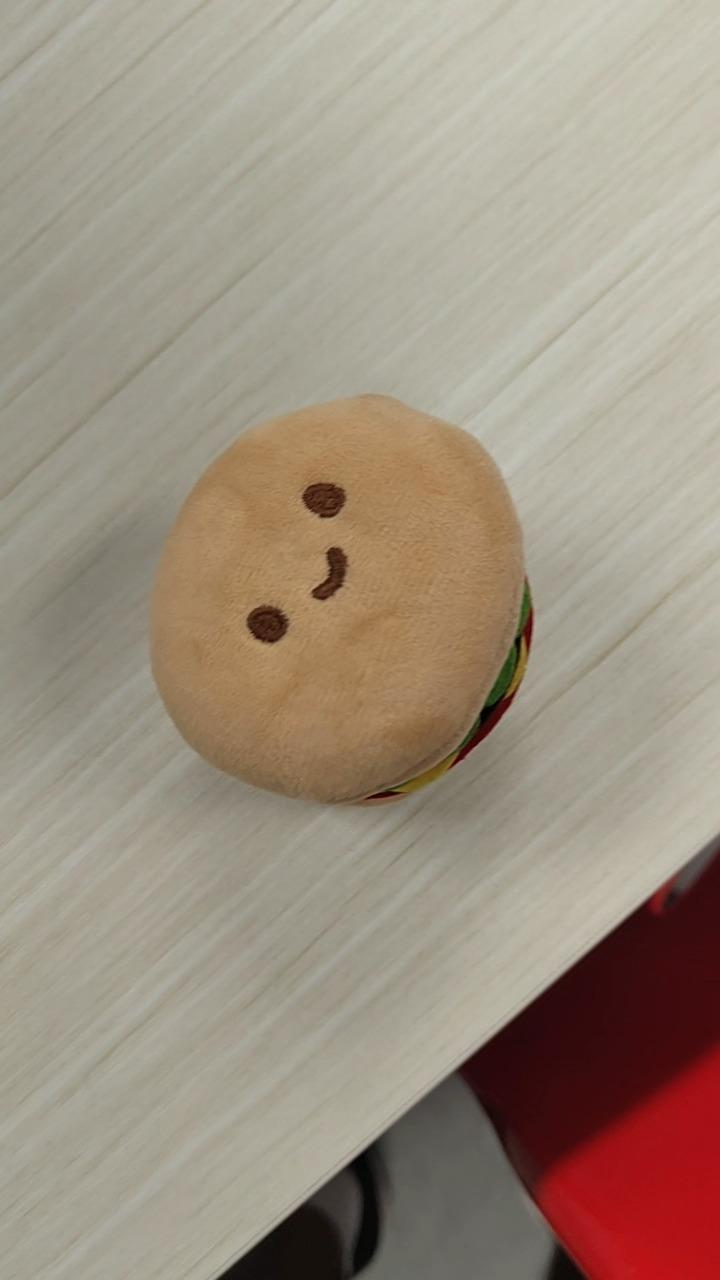hamburger: (147, 390, 535, 807)
